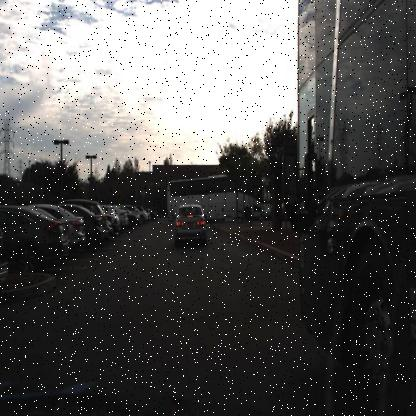car: (293, 0, 415, 380), (3, 205, 73, 264), (35, 200, 90, 251), (62, 200, 104, 247), (172, 200, 210, 251), (65, 209, 88, 250), (84, 208, 106, 245)
truck: (284, 0, 415, 408), (165, 168, 277, 228), (164, 173, 278, 220)
